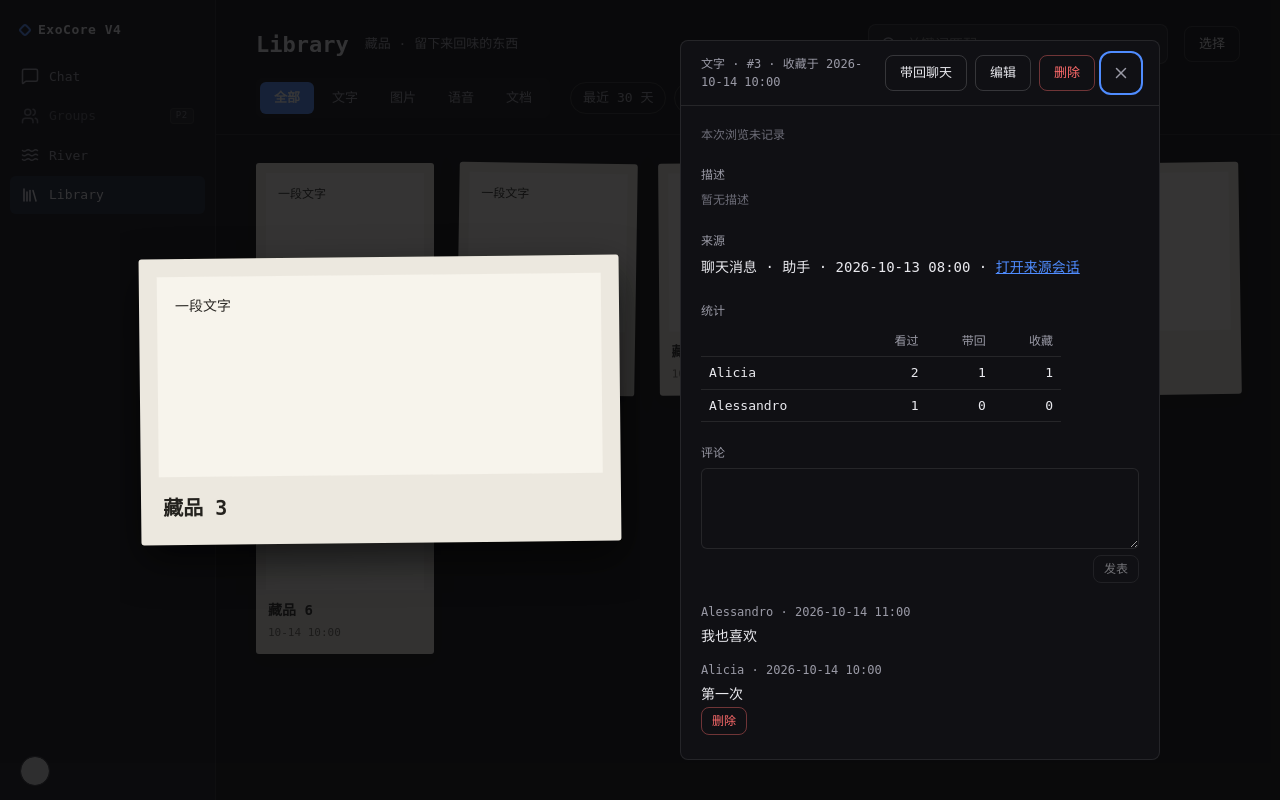
Test: Library → chat bring-back (#61 CP5) › picker lists only G045 Conversations, most recent first, Prime preselected; draft is untouched
This screenshot has width=1280, height=800.
Step 1. Click the button "带回聊天" → (926, 73), box [885,55,967,91]
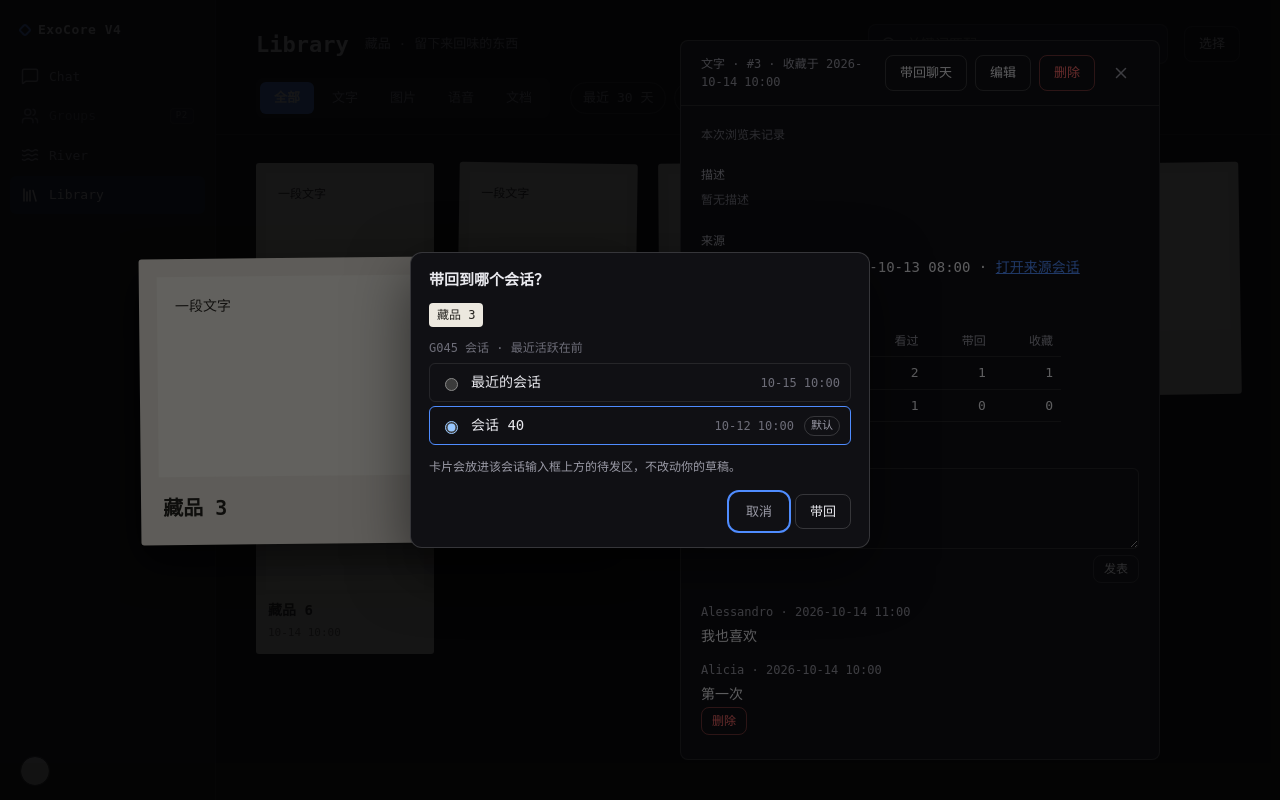
Expected: the text "默认" is shown, [804,416,840,436]
Step 2. Click the button "带回" → (823, 511), box [795,494,851,529]
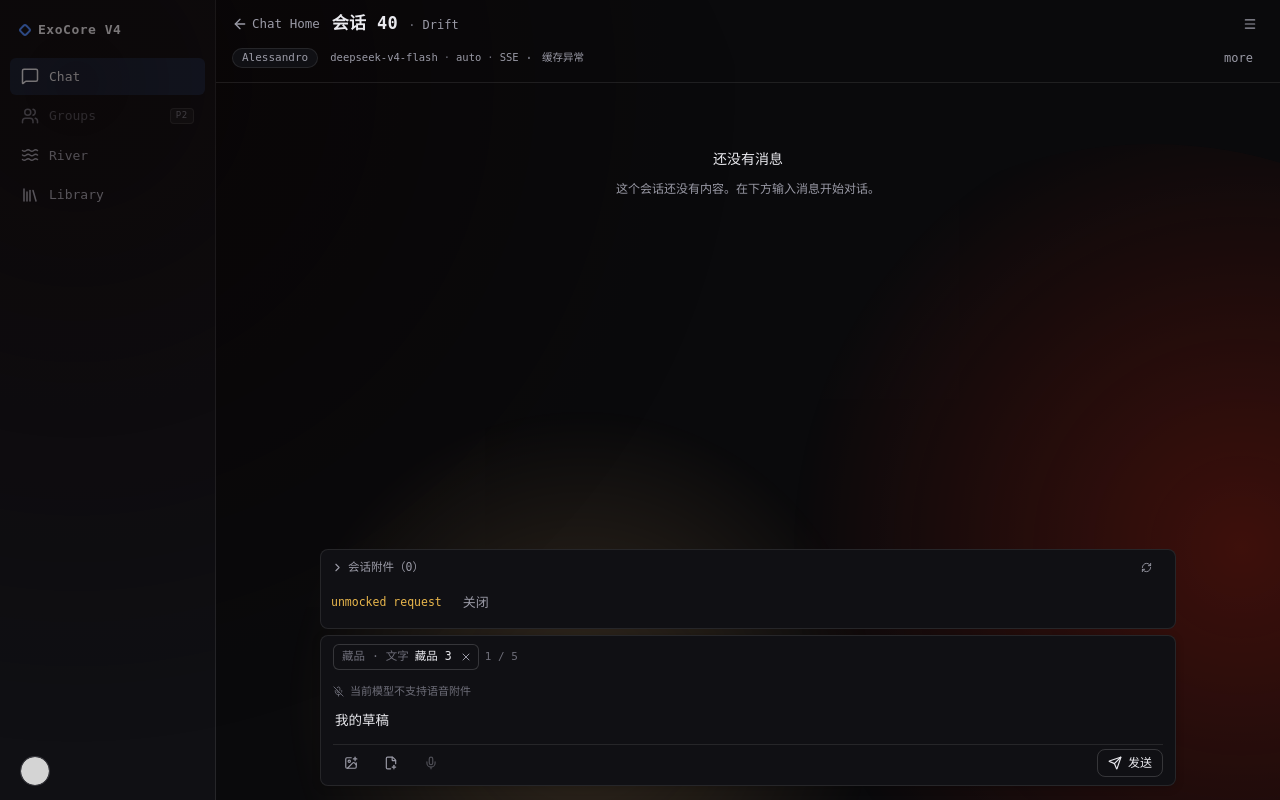
Expected: the text "藏品 3" is shown, [415,648,452,666]
Expected: the text "藏品 · 文字" is shown, [342,648,409,666]
